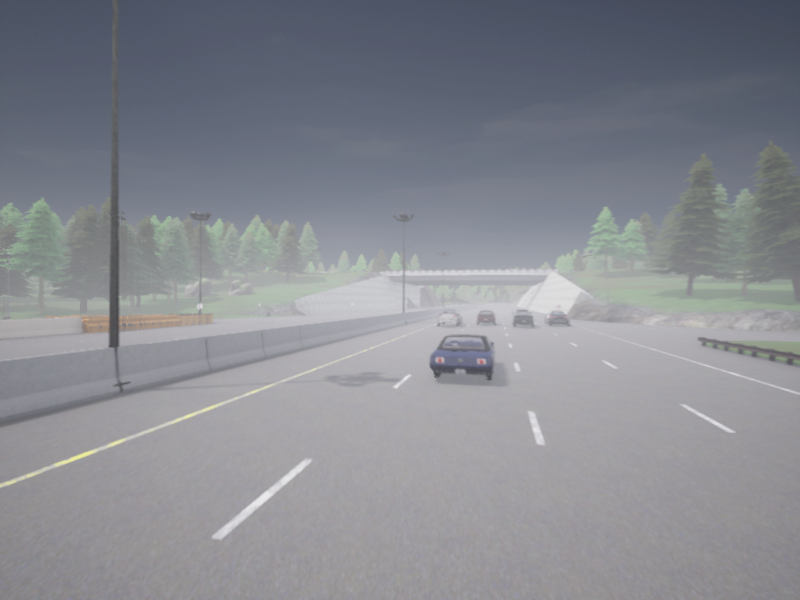vehicle: (429, 334, 493, 379), (437, 309, 461, 326), (544, 310, 569, 325), (511, 310, 533, 326), (477, 310, 495, 324)
